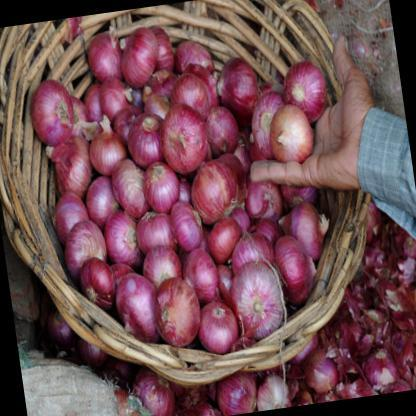onion: (204, 46, 266, 119), (24, 71, 78, 148), (150, 270, 202, 348), (186, 156, 244, 224), (58, 210, 110, 279), (140, 148, 184, 214), (119, 24, 162, 88)
